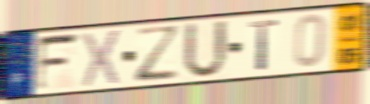0: (291, 12, 329, 71)
F: (34, 31, 82, 94)
T: (248, 17, 281, 72)
U: (181, 18, 229, 81)
X: (80, 27, 123, 90)
Z: (134, 24, 183, 86)
